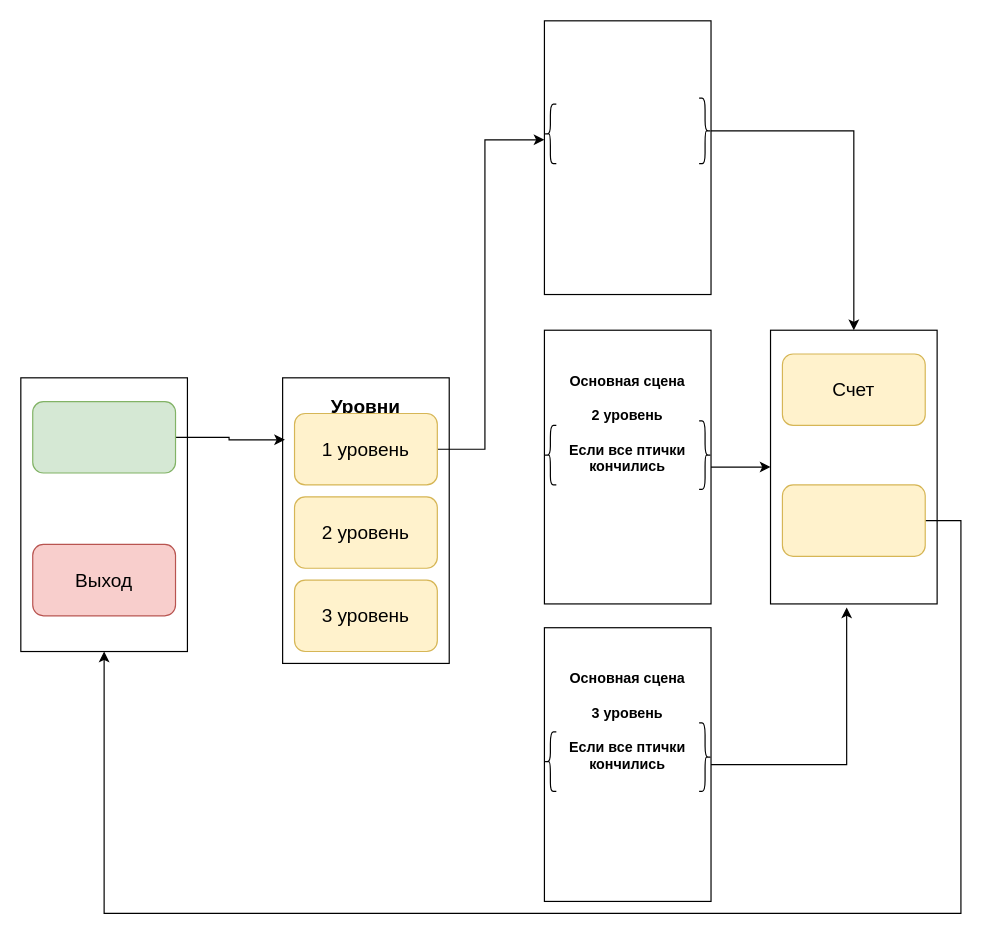
The diagram is 991 pixels wide and 944 high, and some of its shapes have lost their labels. Each missing label, with the box of its shape:
Заново: (781, 484, 925, 556)
Играть: (32, 400, 176, 473)
Основная сцена 1 уровень Если все птички кончились: (543, 20, 711, 295)
